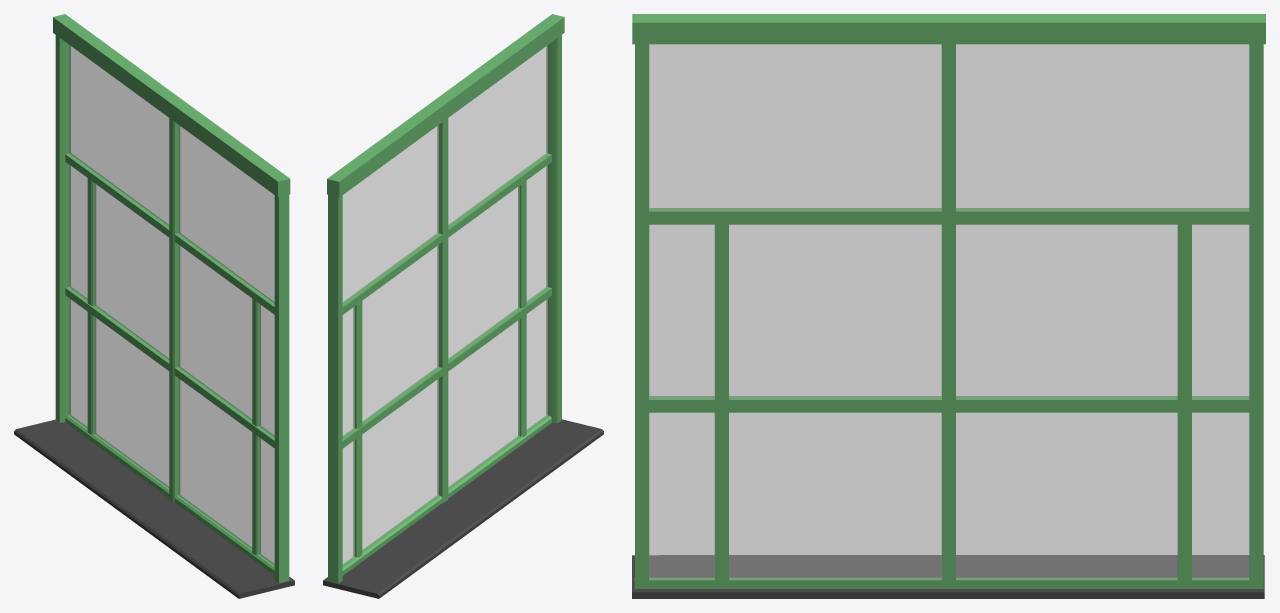
Rendered from Bedroom_veranda_180M.FBX.
3 renders of one model, left to right at view 1: azimuth 30°, elevation 25°; view 2: azimuth 150°, elevation 25°; view 3: azimuth 270°, elevation 25°, orthographic. The views are drawn at different scales.
Parts seen in each view (by area): view 1: Bedroom_veranda_180M; view 2: Bedroom_veranda_180M; view 3: Bedroom_veranda_180M.
Part boxes in pixels (x1,y1,x2,y2): Bedroom_veranda_180M: [14, 14, 294, 598]; Bedroom_veranda_180M: [323, 14, 603, 598]; Bedroom_veranda_180M: [632, 14, 1265, 598].
Size of the model in its own units: 25.79 by 180 by 180.
